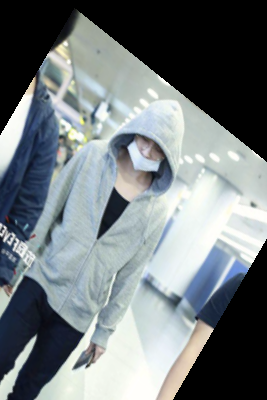mask_weared_incorrect: (115, 98, 184, 183)
